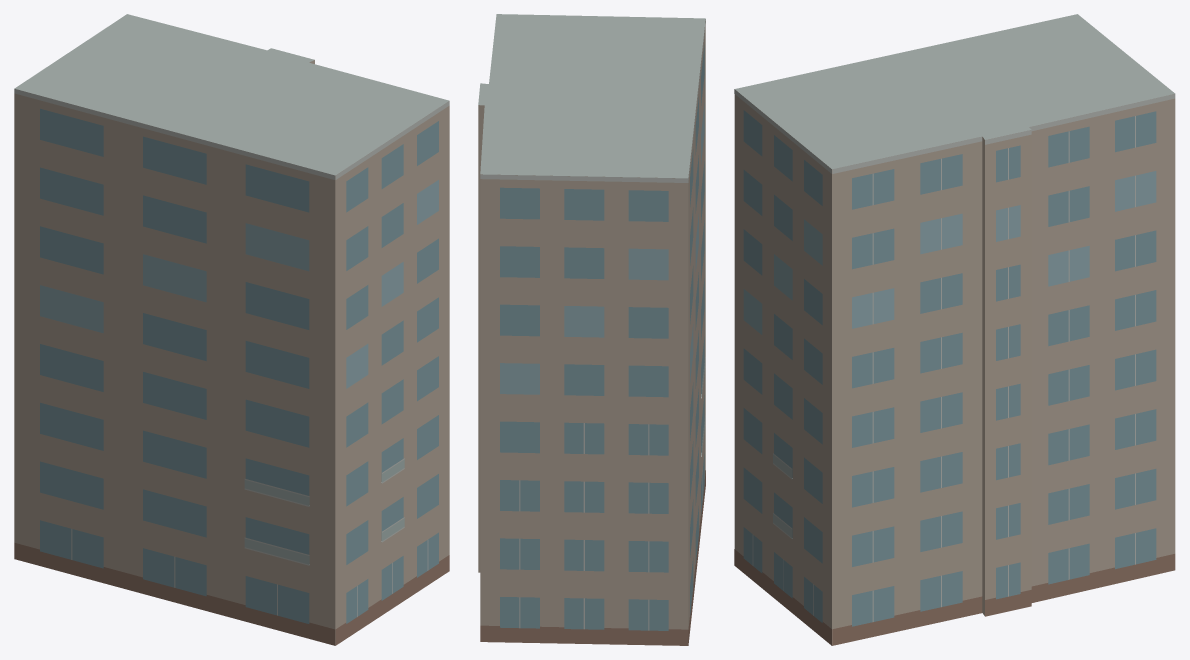
File: survey-upis-33009167.glb
3 views of the same model, side by side, from view 1: azimuth 30°, elevation 25°; view 2: azimuth 150°, elevation 25°; view 3: azimuth 270°, elevation 25° (orthographic).
Parts seen in each view (by area): view 1: survey-upis-33009167.tmp; view 2: survey-upis-33009167.tmp; view 3: survey-upis-33009167.tmp.
Part boxes in pixels (<box>): survey-upis-33009167.tmp: <box>14,14,449,645</box>; survey-upis-33009167.tmp: <box>478,14,705,645</box>; survey-upis-33009167.tmp: <box>734,14,1175,645</box>.
Size of the model in its own units: 16.96 by 24.25 by 20.34.
